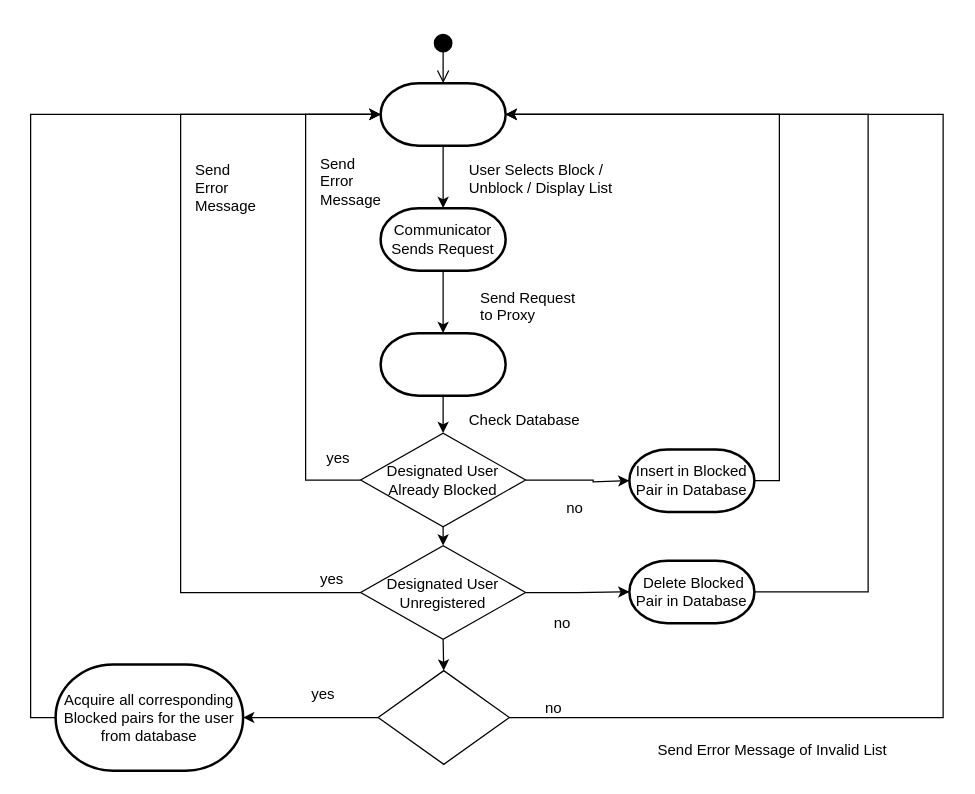
This 975x794 diagram has some shape labels left out. The centre of each missing label's shape, as x and y in pixels:
"List of Blocked Users exists?" belongs at pixel 443 716.
"Proxy Handles Request" belongs at pixel 442 363.
"SIP Communicator / GUI Manager" belongs at pixel 442 113.
